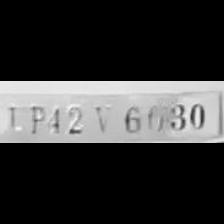0: (186, 100, 208, 130)
2: (61, 101, 86, 135)
3: (164, 98, 184, 132)
4: (46, 102, 62, 134)
6: (119, 101, 143, 135)
P: (24, 101, 46, 135)
U: (1, 102, 23, 134)
V: (89, 100, 115, 134)
